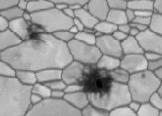good_void: (73, 60, 115, 99), (23, 21, 49, 49), (139, 73, 148, 79)
